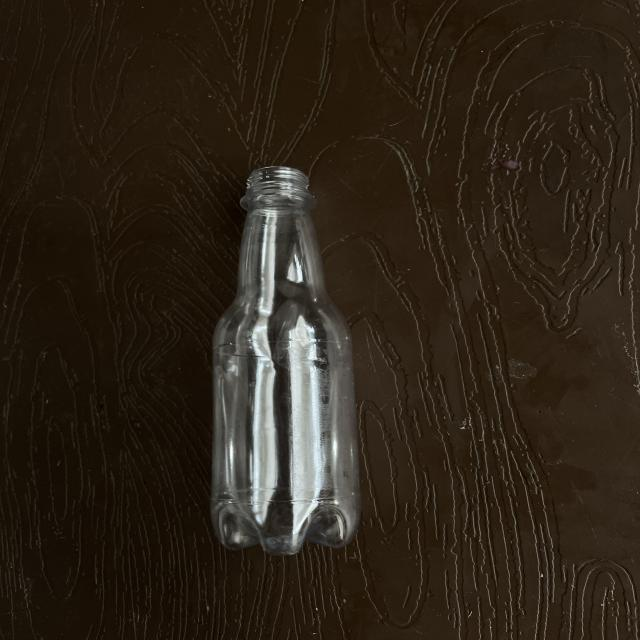PET_ClearBottle: (202, 170, 370, 545)
